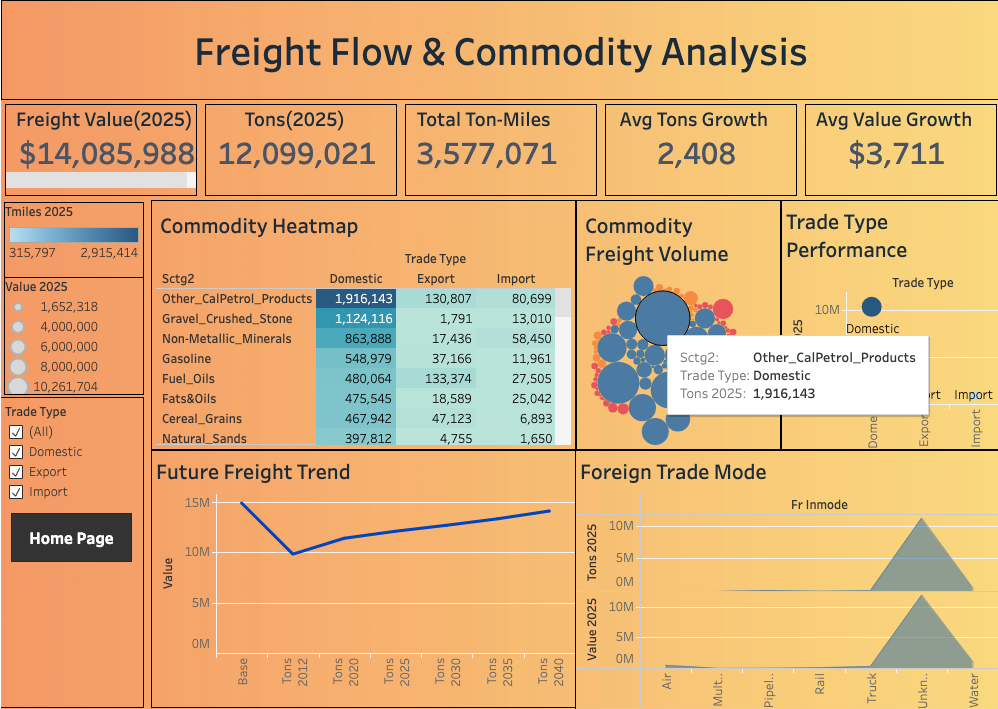

Layout of this report page (visuals, bound fields, positions):
{"tool":"tableau","page":{"name":"Page 3","canvas":[1000,800],"ordinal":3},"visuals":[{"type":"image","param":"/Users/masalapav/Downloads/Untitled design.png","box":[0,0,1000,800]},{"type":"text","box":[0,0,1000,100]},{"type":"worksheet","title":"Freight Value","mark":"Automatic","box":[0,100,200,100]},{"type":"worksheet","title":"Total Tons","mark":"Automatic","box":[200,100,200,100]},{"type":"worksheet","title":"Total Ton-Miles","mark":"Automatic","box":[400,100,200,100]},{"type":"worksheet","title":"Avg Tons Growth","mark":"Automatic","box":[600,100,200,100]},{"type":"worksheet","title":"Avg Value Growth","mark":"Automatic","box":[800,100,200,100]},{"type":"worksheet","title":"trade type","mark":"Circle","rows":["tons_2025"],"cols":["trade_type"],"box":[780,200,220,250]},{"type":"worksheet","title":"heatmap","mark":"Square","rows":["sctg2"],"cols":["trade_type"],"box":[151,201,423,248]},{"type":"worksheet","title":"bubble","mark":"Circle","box":[576,201,203,248]},{"type":"legend","title":"trade type","param":"[federated.0qid9ej0ncb73z1dgbyq90pnll40].[sum:tmiles_2025:qk]","box":[3,202,140,76]},{"type":"legend","title":"trade type","param":"[federated.0qid9ej0ncb73z1dgbyq90pnll40].[sum:value_2025:qk]","box":[3,277,140,118]},{"type":"filter","title":"heatmap","param":"[federated.0qid9ej0ncb73z1dgbyq90pnll40].[none:trade_type:nk]","box":[0,398,142,107]},{"type":"worksheet","title":"line","mark":"Line","box":[150,450,425,258]},{"type":"worksheet","title":"bot","mark":"Area","rows":["tons_2025","value_2025"],"cols":["fr_inmode"],"box":[574,450,425,260]},{"type":"dashboard-object","box":[10,513,121,49]}]}

Visuals, with their boxes on the page's 1000x800 design canvas (x1, y1, x2, y2). These are canvas units, not pixel positions in the 998x709 screenshot, which may show the page scaled, cropped or inside an application window:
image: (0,0,1000,800)
text: (0,0,1000,100)
"Freight Value" worksheet: (0,100,200,200)
"Total Tons" worksheet: (200,100,400,200)
"Total Ton-Miles" worksheet: (400,100,600,200)
"Avg Tons Growth" worksheet: (600,100,800,200)
"Avg Value Growth" worksheet: (800,100,1000,200)
"trade type" worksheet (Circle marks): (780,200,1000,450)
"heatmap" worksheet (Square marks): (151,201,574,449)
"bubble" worksheet (Circle marks): (576,201,779,449)
"trade type" legend: (3,202,143,278)
"trade type" legend: (3,277,143,395)
"heatmap" filter: (0,398,142,505)
"line" worksheet (Line marks): (150,450,575,708)
"bot" worksheet (Area marks): (574,450,999,710)
dashboard-object: (10,513,131,562)
